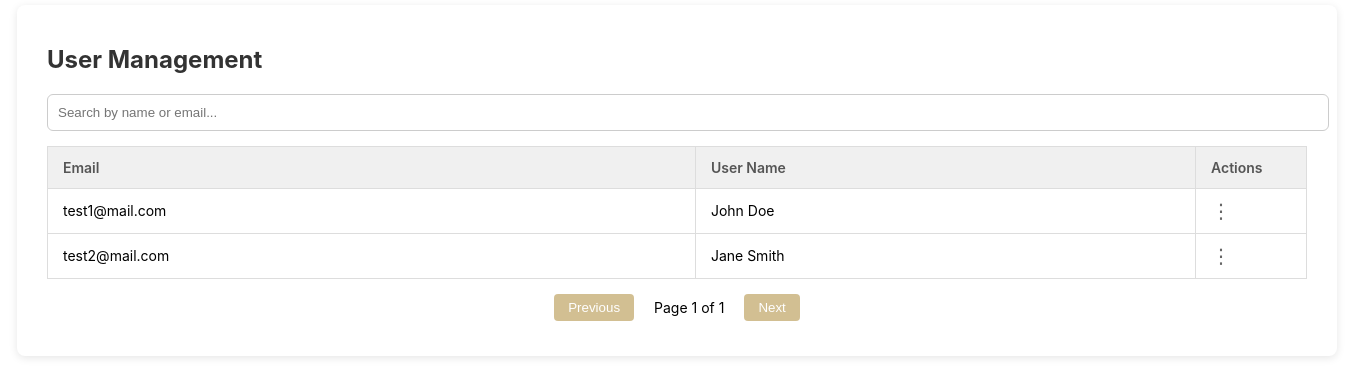
deletes a user after confirmation
Expected: the text "John Doe" is shown, [695,188,1196,233]
Click the button "⋮" in the row of "test1@mail.com": (1221, 211) [1211,201,1231,221]
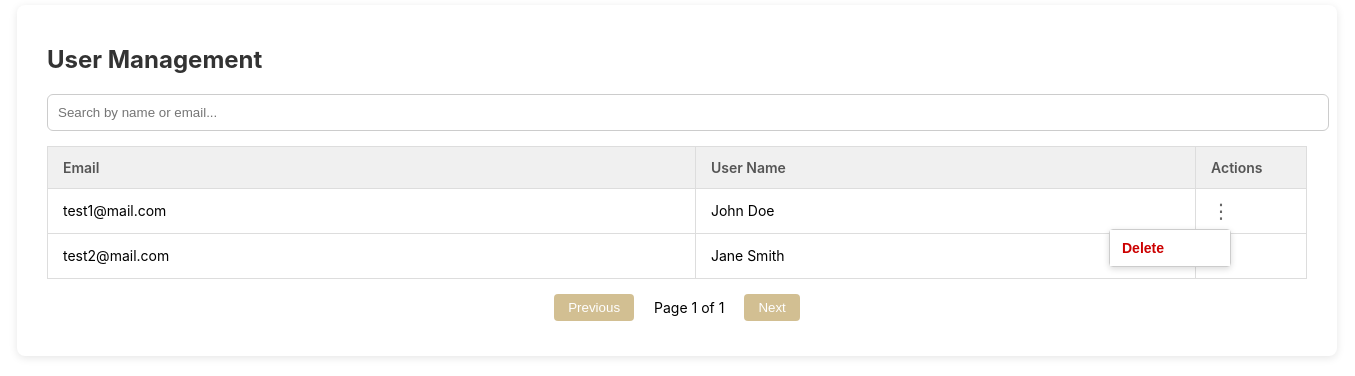
Expected: the button "Delete" is shown
Click the button "Delete": (1170, 248) [1110,230,1230,266]
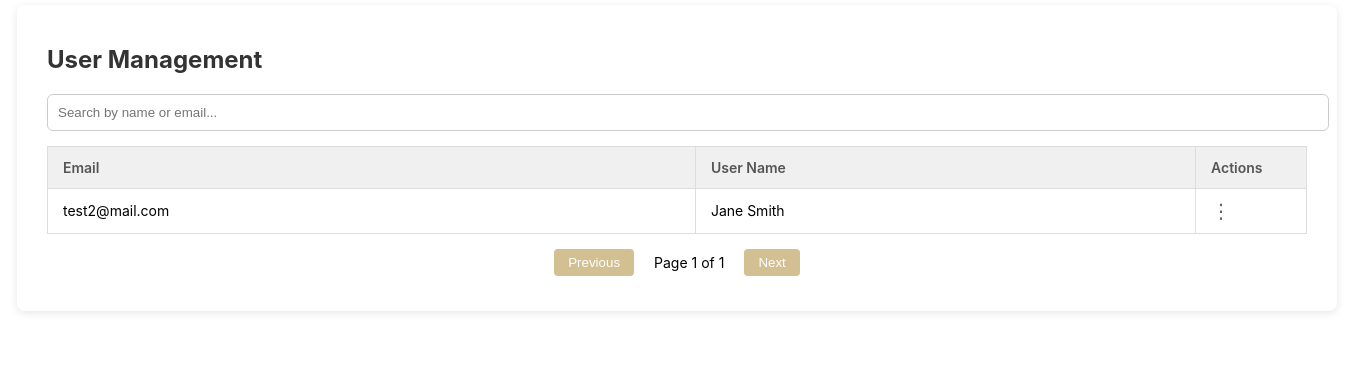
Expected: the text "John Doe" is gone
